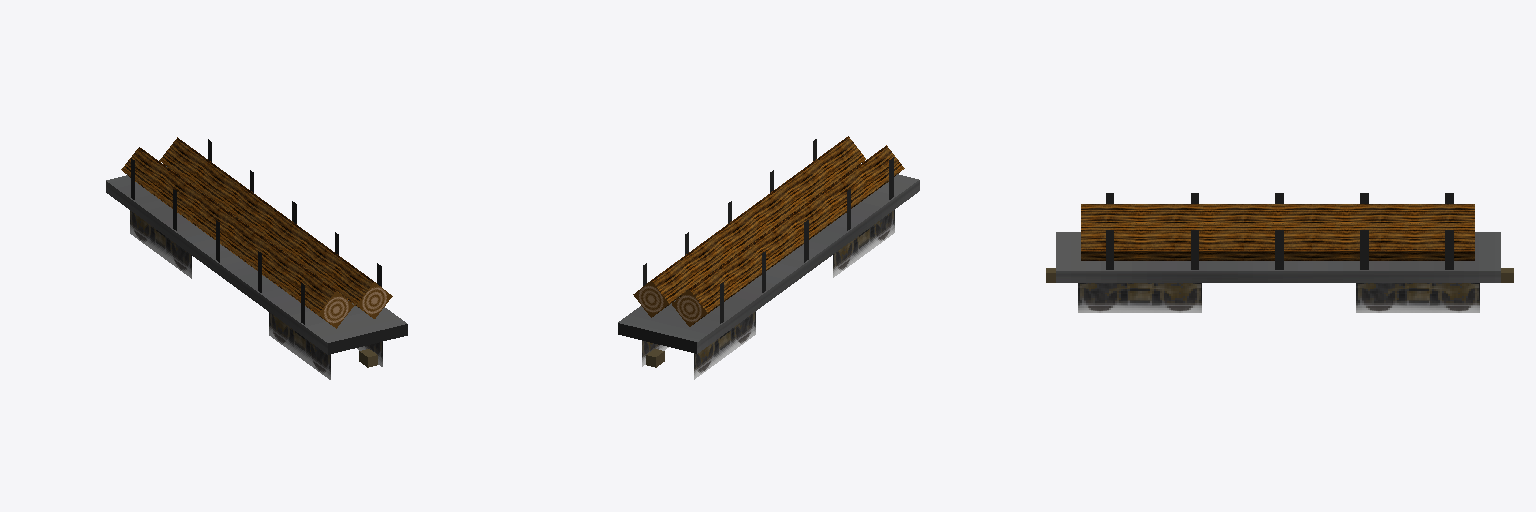
3 renders of one model, left to right at view 1: azimuth 30°, elevation 25°; view 2: azimuth 150°, elevation 25°; view 3: azimuth 270°, elevation 25°, orthographic.
Parts seen in each view (by area): view 1: Cube.008; view 2: Cube.008; view 3: Cube.008.
Part boxes in pixels (left/top/right/bottom): Cube.008: left=106, top=137, right=407, bottom=379; Cube.008: left=618, top=136, right=919, bottom=379; Cube.008: left=1046, top=193, right=1513, bottom=312.
Size of the model in its own units: 2.95 by 3.13 by 14.94.
Materials: 1 (1 with a texture image).